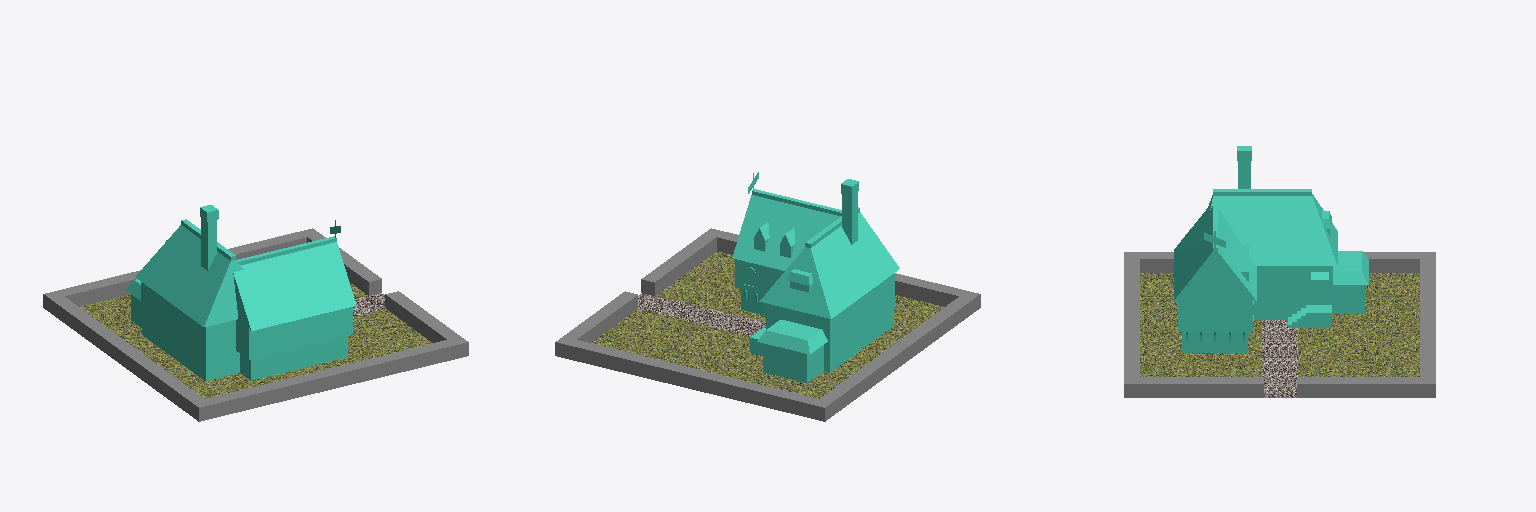
3 views of the same model, side by side, from view 1: azimuth 30°, elevation 25°; view 2: azimuth 150°, elevation 25°; view 3: azimuth 270°, elevation 25° (orthographic).
Visible parts, largest first — view 1: Box06, Plane001; view 2: Box06, Plane001, Plane003, Plane004; view 3: Box06, Plane001, Plane003.
Boxes of the visible parts, box(x1,y1,x2,y2) form: Box06: box(126, 205, 356, 380); Plane001: box(80, 283, 431, 398); Box06: box(732, 172, 899, 382); Plane001: box(592, 251, 943, 398); Plane003: box(657, 300, 703, 320); Plane004: box(687, 308, 733, 327); Box06: box(1174, 146, 1368, 352); Plane001: box(1140, 273, 1419, 397); Plane003: box(1262, 367, 1297, 381).
Bounding box in the file's own units: 603 × 325 × 603.
4 materials, 2 textured.